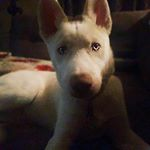puppy: (33, 1, 122, 102)
